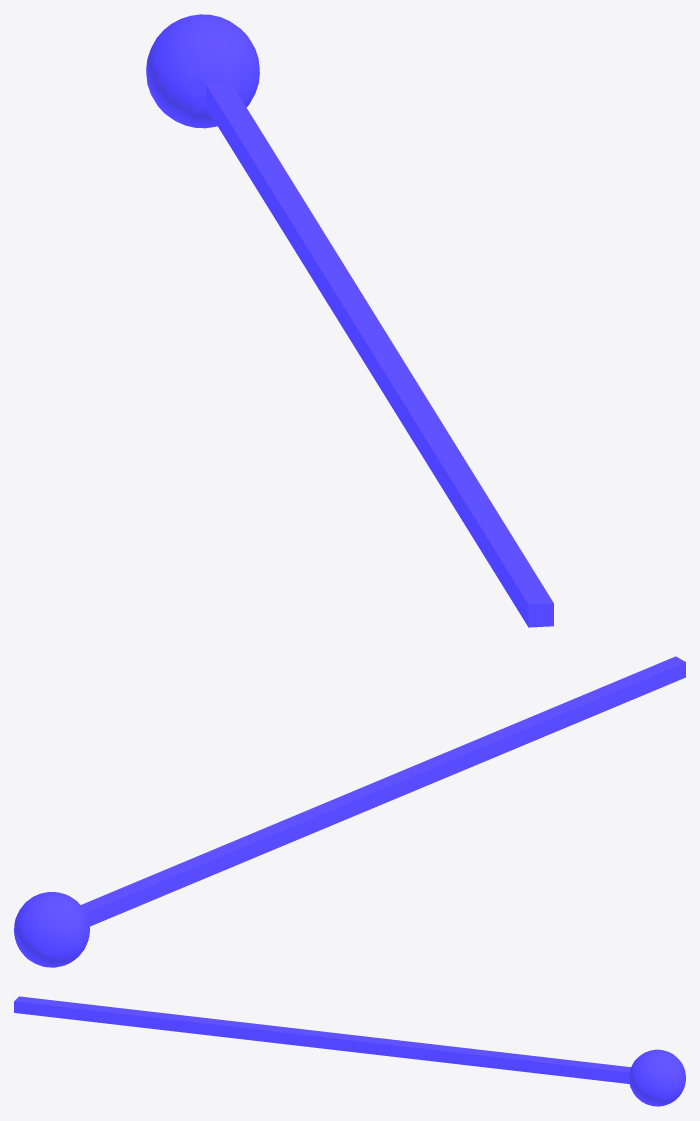
File: NewWebMenuNewsListner2.gltf
3 renders of one model, top to bottom at view 1: azimuth 30°, elevation 25°; view 2: azimuth 150°, elevation 25°; view 3: azimuth 270°, elevation 25°, orthographic. The views are drawn at different scales.
Visible parts, largest first — view 1: ListnerModuli.003; view 2: ListnerModuli.003; view 3: ListnerModuli.003.
Boxes of the visible parts, x1,y1,x2,y2 form: ListnerModuli.003: [146, 14, 553, 627]; ListnerModuli.003: [14, 656, 685, 967]; ListnerModuli.003: [14, 996, 685, 1106].
Size of the model in its own units: 0.1543 by 0.0421 by 0.4957.
